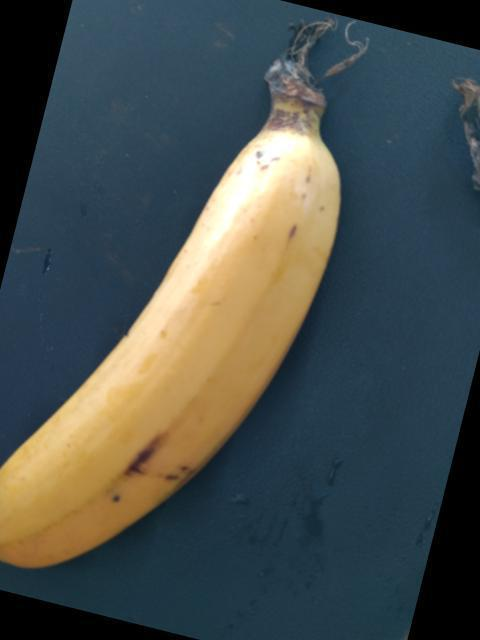freshripe: (0, 137, 343, 568)
